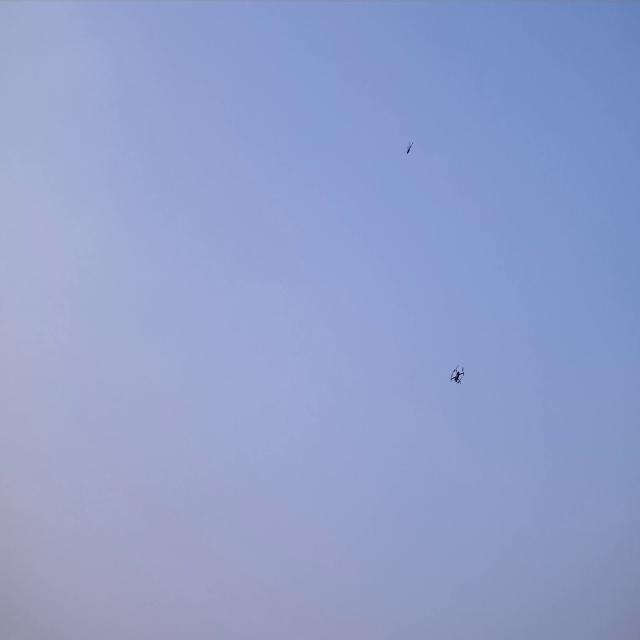UAV: (449, 361, 465, 386)
